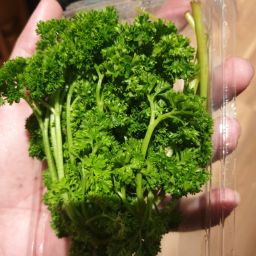Parsley: (18, 97, 213, 236), (26, 4, 188, 144), (1, 45, 166, 135), (37, 170, 169, 256), (161, 2, 223, 110)
